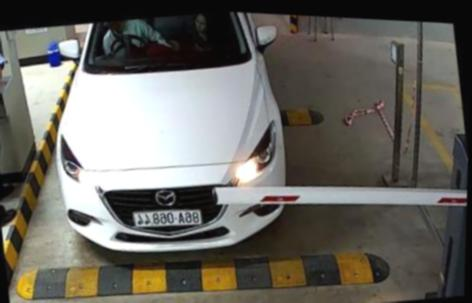License_Plate: (124, 199, 208, 240)
